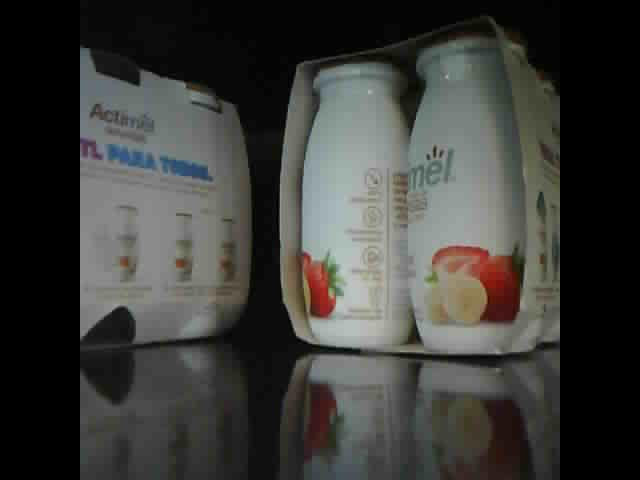actimel: (281, 14, 559, 355), (80, 41, 253, 352)
